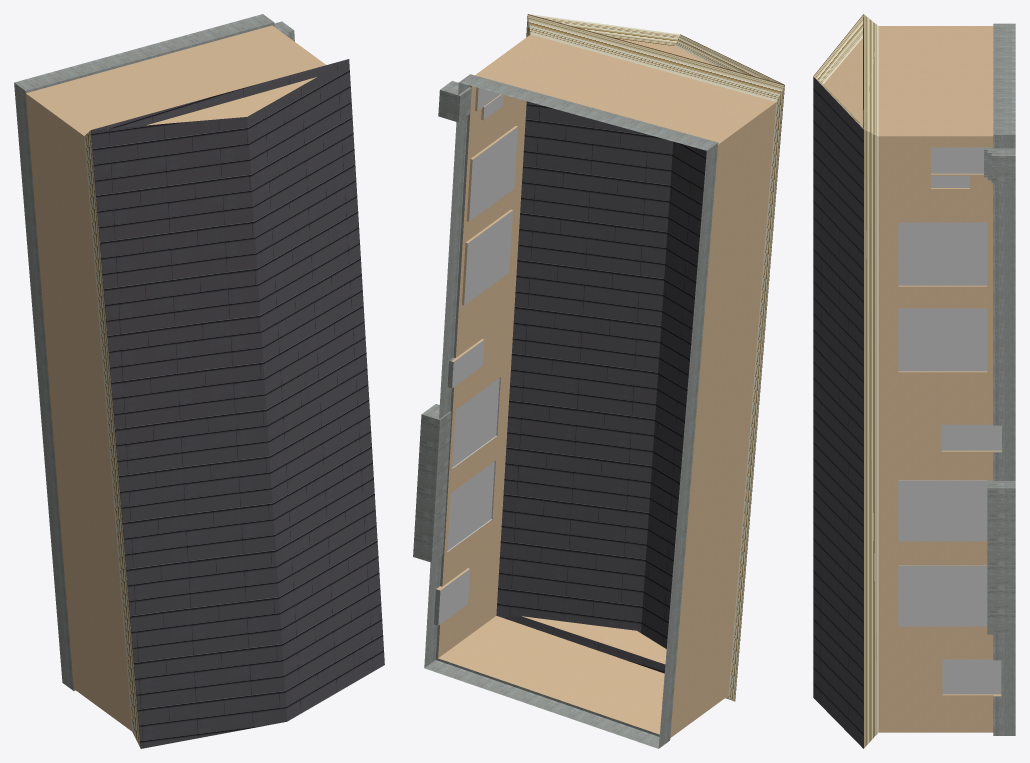
Rendered from Vana_Viru_14a.obj.
The picture shows the model from 3 angles, left to right: view 1: azimuth 30°, elevation 25°; view 2: azimuth 150°, elevation 25°; view 3: azimuth 270°, elevation 25°; orthographic projection. The views are drawn at different scales.
Parts seen in each view (by area): view 1: Vana_Viru_14a; view 2: Vana_Viru_14a; view 3: Vana_Viru_14a.
Part boxes in pixels (x1,y1,x2,y2): Vana_Viru_14a: (14, 14, 384, 748); Vana_Viru_14a: (413, 14, 784, 748); Vana_Viru_14a: (813, 14, 1015, 748).
Bounding box in the file's own units: 12.94 × 26.75 × 7.84.
